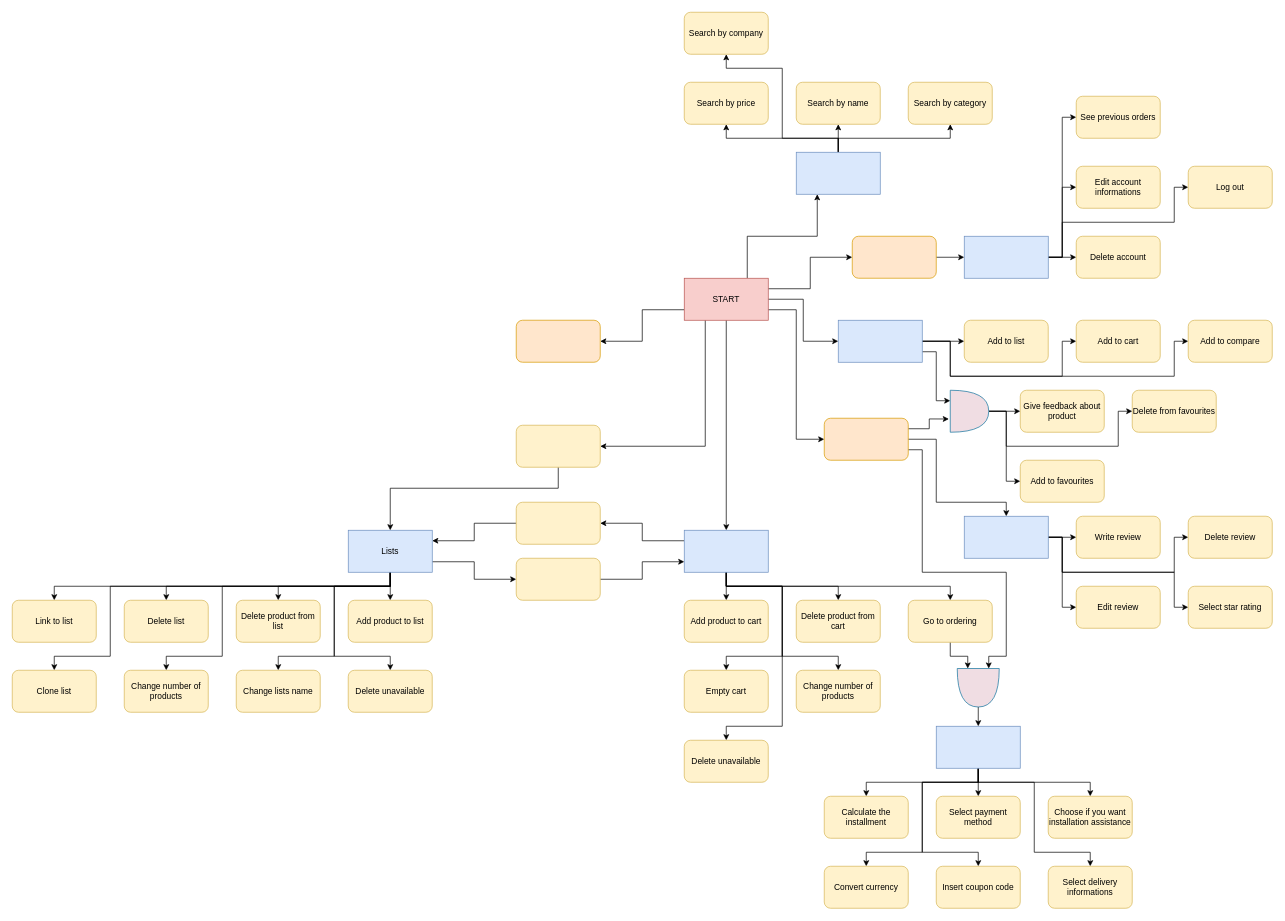
Image size: 1285x921. Some labels were removed from this diagram. Each missing label, with the centre of its shape:
"Add available content to cart" goes at (x=558, y=579).
"Cart" goes at (x=726, y=551).
"Convert cart to list" goes at (x=558, y=523).
"Create list" goes at (x=558, y=446).
"Log in" goes at (x=866, y=439).
"Order" goes at (x=978, y=747).
"Products" goes at (x=880, y=341).
"Reviews" goes at (x=1006, y=537).
"Search" goes at (x=838, y=173).
"See news" goes at (x=558, y=341).
"Sign up" goes at (x=894, y=257).
"Users" goes at (x=1006, y=257).
